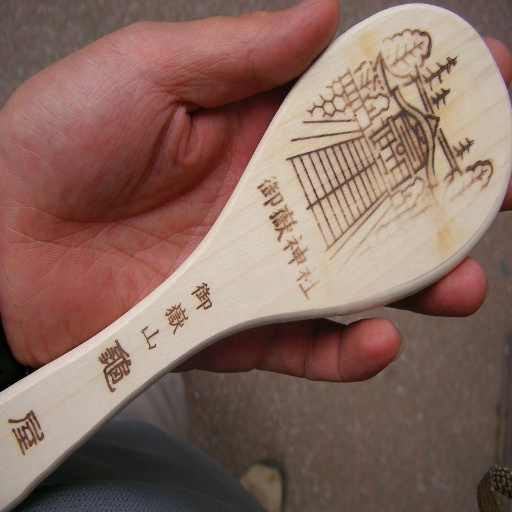hand: (22, 0, 512, 496)
